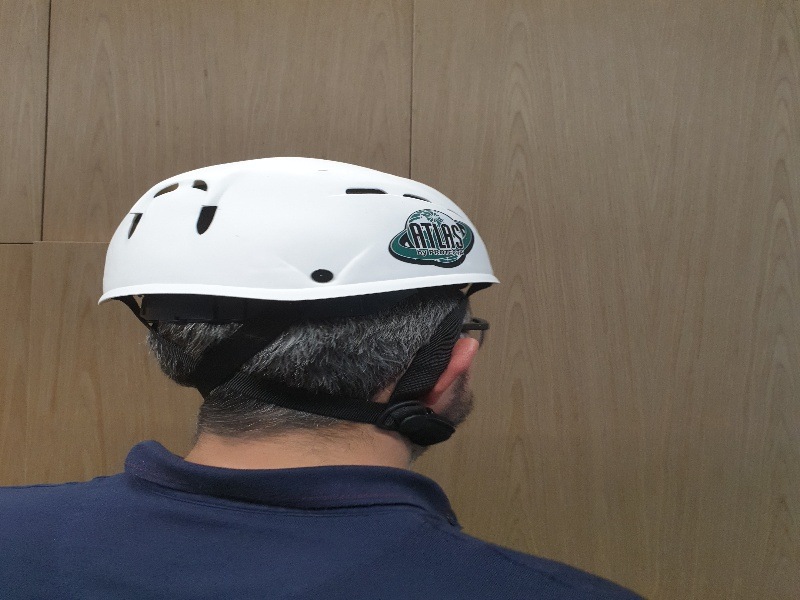Baret: (107, 156, 498, 294)
